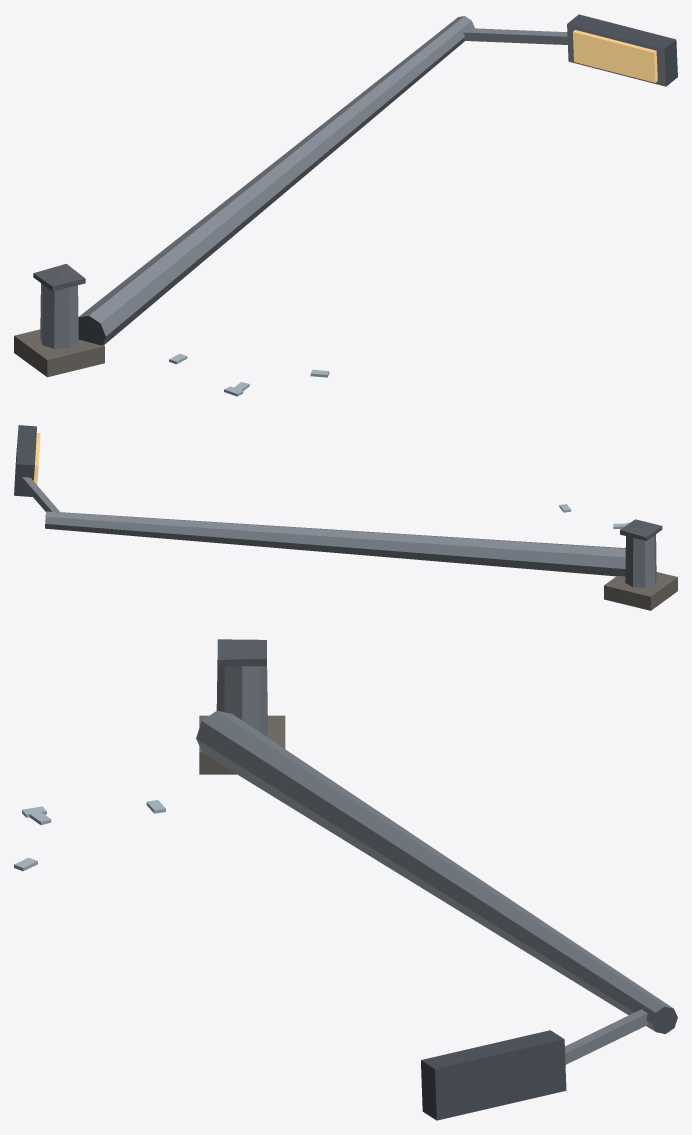
The model's file is prop_streetlight_fallen.meshopt.glb.
The picture shows the model from 3 angles, top to bottom: view 1: azimuth 30°, elevation 25°; view 2: azimuth 150°, elevation 25°; view 3: azimuth 270°, elevation 25°; orthographic projection. The views are drawn at different scales.
Visible parts, largest first — view 1: streetlight_fallen, bulb; view 2: streetlight_fallen; view 3: streetlight_fallen.
Part boxes in pixels (bbox=[...]): streetlight_fallen: bbox=[14, 14, 677, 396]; bulb: bbox=[572, 30, 657, 82]; streetlight_fallen: bbox=[14, 425, 677, 610]; streetlight_fallen: bbox=[14, 639, 677, 1120].
Bounding box in the file's own units: 8.76 × 1.1 × 5.39.
